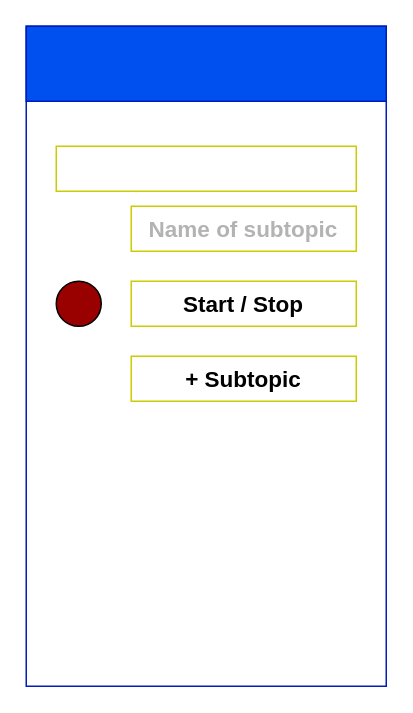
The diagram is 413 pixels wide and 713 high, and some of its shapes have lost their labels. The centre of each missing label's shape, as x and y in pixels:
Name of the Recording: the point at 205,168
Title Bar: the point at 205,63
